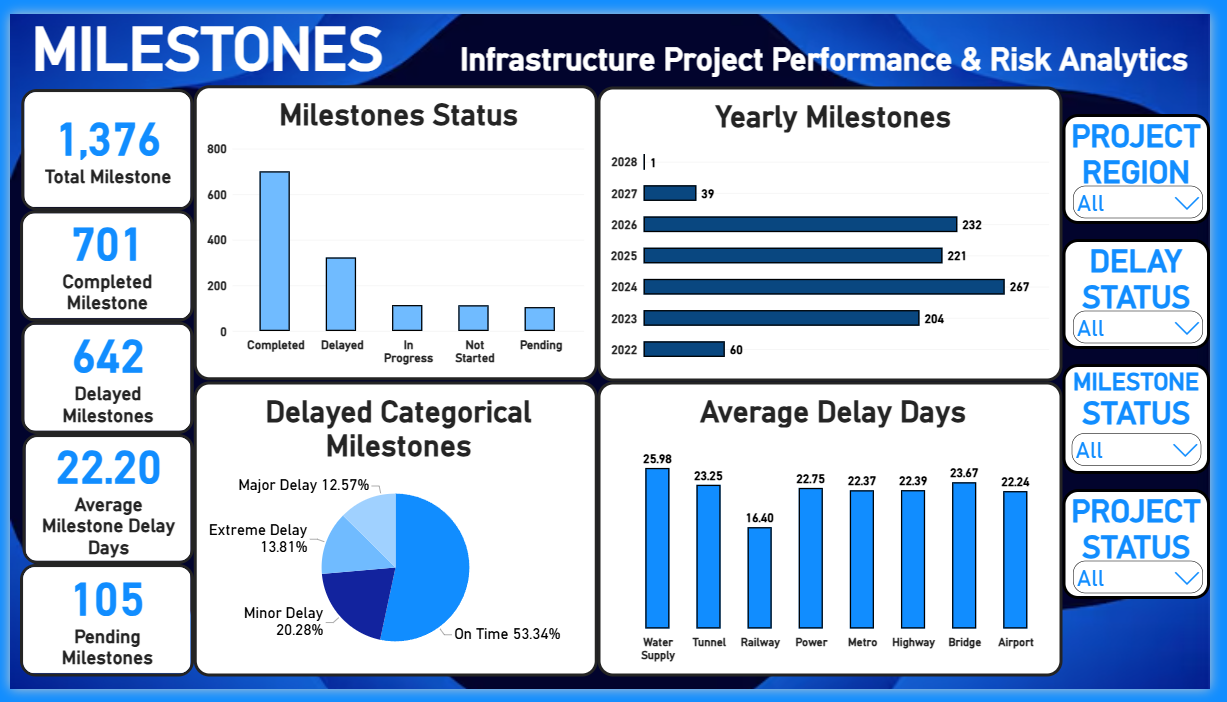

The dashboard page shown, as its layout file describes it:
{"tool":"powerbi","page":{"name":"Project Milestones","canvas":[1920,1080],"ordinal":2},"visuals":[{"type":"textbox","box":[0,0,1920,228],"z":0},{"type":"columnChart","title":"Milestones Status","fields":{"Category":["ProjectMilestones.Status"],"Y":["CountNonNull(ProjectMilestones.Milestone_ID)"]},"box":[294,114,646,472],"z":1000},{"type":"cardVisual","fields":{"Data":["ProjectMilestones.Total Milestone"]},"box":[18,120,276,194],"z":2000},{"type":"clusteredBarChart","title":"Yearly Milestones","fields":{"Category":["ProjectMilestones.Actual_Date.Variation.Date Hierarchy.Year"],"Y":["CountNonNull(ProjectMilestones.Milestone_ID)"]},"box":[940,116,744,472],"z":3000},{"type":"columnChart","title":"Average Delay Days","fields":{"Category":["Projects.Project_Type"],"Y":["Avg(ProjectMilestones.Milestone_Delay_Days)"]},"box":[940,588,744,472],"z":4000},{"type":"cardVisual","fields":{"Data":["CountNonNull(ProjectMilestones.Milestone_ID)"]},"box":[18,492,276,180],"z":5000},{"type":"cardVisual","fields":{"Data":["Avg(ProjectMilestones.Milestone_Delay_Days)"]},"box":[20,672,274,208],"z":6000},{"type":"cardVisual","fields":{"Data":["CountNonNull(ProjectMilestones.Milestone_ID)"]},"box":[16,880,278,180],"z":7000},{"type":"pieChart","title":"Delayed Categorical Milestones","fields":{"Category":["ProjectMilestones.Delay_Category"],"Y":["CountNonNull(ProjectMilestones.Milestone_ID)"]},"box":[294,588,646,472],"z":8000},{"type":"cardVisual","fields":{"Data":["CountNonNull(ProjectMilestones.Milestone_ID)"]},"box":[16,314,278,178],"z":9000},{"type":"textbox","box":[1684,160,236,176],"z":10000},{"type":"slicer","fields":{"Values":["Projects.Region"]},"box":[1695,270,218,76],"z":11000},{"type":"textbox","box":[1684,360,236,176],"z":12000},{"type":"textbox","box":[1684,560,236,176],"z":13000},{"type":"textbox","box":[1684,760,236,176],"z":14000},{"type":"slicer","fields":{"Values":["Projects.Status"]},"box":[1695,870,218,76],"z":15000},{"type":"slicer","fields":{"Values":["ProjectMilestones.Status"]},"box":[1693.8,666,217.2,76],"z":16000},{"type":"slicer","fields":{"Values":["ProjectMilestones.Delay_Category"]},"box":[1695,470,218,76],"z":17000}]}

Visuals, with their boxes in screenshot pixels (x1, y1, x2, y2), scaled from the page's 1920x1080 canvas onto the 1227x702 screenshot:
textbox: bbox=(0, 0, 1226, 148)
"Milestones Status" columnChart: bbox=(188, 74, 601, 381)
cardVisual - ProjectMilestones.Total Milestone: bbox=(12, 78, 188, 204)
"Yearly Milestones" clusteredBarChart: bbox=(601, 75, 1076, 382)
"Average Delay Days" columnChart: bbox=(601, 382, 1076, 689)
cardVisual - CountNonNull(ProjectMilestones.Milestone_ID): bbox=(12, 320, 188, 437)
cardVisual - Avg(ProjectMilestones.Milestone_Delay_Days): bbox=(13, 437, 188, 572)
cardVisual - CountNonNull(ProjectMilestones.Milestone_ID): bbox=(10, 572, 188, 689)
"Delayed Categorical Milestones" pieChart: bbox=(188, 382, 601, 689)
cardVisual - CountNonNull(ProjectMilestones.Milestone_ID): bbox=(10, 204, 188, 320)
textbox: bbox=(1076, 104, 1226, 218)
slicer - Projects.Region: bbox=(1083, 176, 1223, 225)
textbox: bbox=(1076, 234, 1226, 348)
textbox: bbox=(1076, 364, 1226, 478)
textbox: bbox=(1076, 494, 1226, 608)
slicer - Projects.Status: bbox=(1083, 566, 1223, 615)
slicer - ProjectMilestones.Status: bbox=(1082, 433, 1221, 482)
slicer - ProjectMilestones.Delay_Category: bbox=(1083, 306, 1223, 355)
